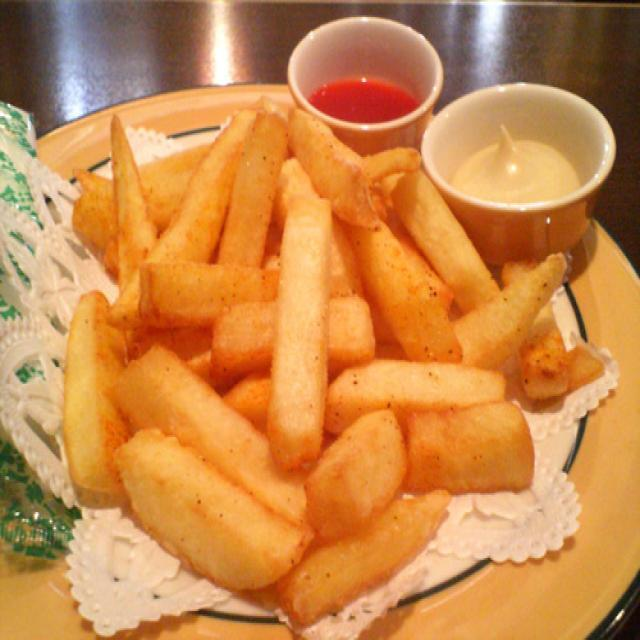French Fries: (61, 114, 571, 566)
